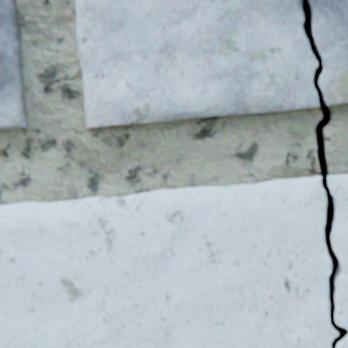brick: (0, 0, 27, 129)
broken_brick: (0, 176, 338, 347), (77, 0, 319, 127), (309, 0, 347, 105), (327, 174, 347, 327), (335, 331, 347, 347)
crack: (302, 0, 347, 347)
